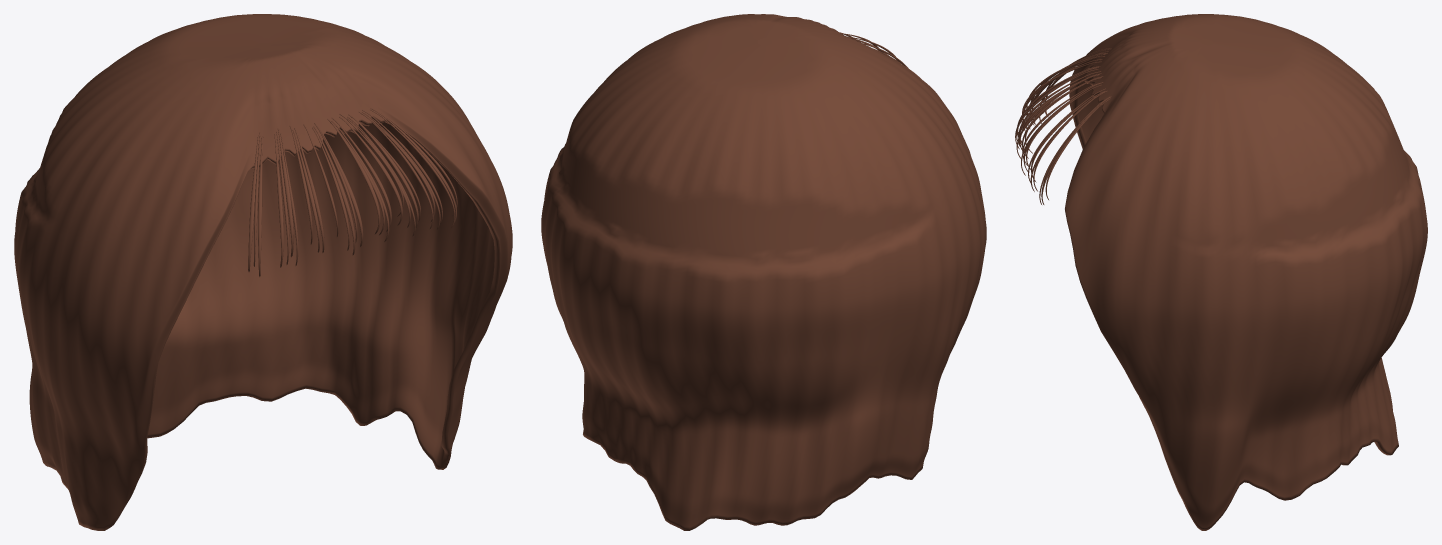
Rendered from side-sweep-bucket.glb.
3 views of the same model, side by side, from view 1: azimuth 30°, elevation 25°; view 2: azimuth 150°, elevation 25°; view 3: azimuth 270°, elevation 25° (orthographic). The views are drawn at different scales.
Parts seen in each view (by area): view 1: Hair / layered lob, Fringe / fine strands; view 2: Hair / layered lob; view 3: Hair / layered lob, Fringe / fine strands.
Boxes of the visible parts, box(x1,y1,x2,y2) form: Hair / layered lob: box(14, 14, 512, 530); Fringe / fine strands: box(248, 107, 457, 276); Hair / layered lob: box(541, 14, 986, 530); Hair / layered lob: box(1065, 14, 1427, 530); Fringe / fine strands: box(1015, 48, 1111, 204).
Size of the model in its own units: 0.8388 by 0.8732 by 0.782.
